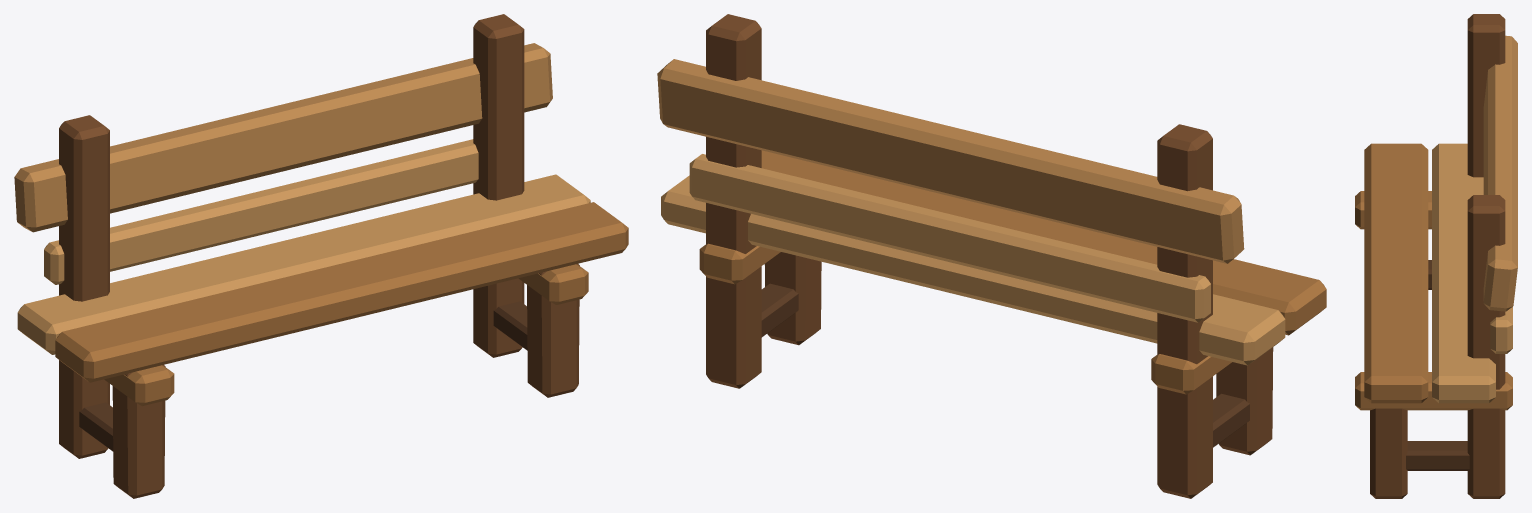
Rendered from bench.glb.
3 views of the same model, side by side, from view 1: azimuth 30°, elevation 25°; view 2: azimuth 150°, elevation 25°; view 3: azimuth 270°, elevation 25° (orthographic). The views are drawn at different scales.
Parts seen in each view (by area): view 1: bench; view 2: bench; view 3: bench.
Part boxes in pixels (x1,y1,x2,y2): bench: (14, 14, 628, 498); bench: (657, 14, 1326, 498); bench: (1355, 14, 1517, 498).
Bounding box in the file's own units: 1.5 × 0.86 × 0.4336.
